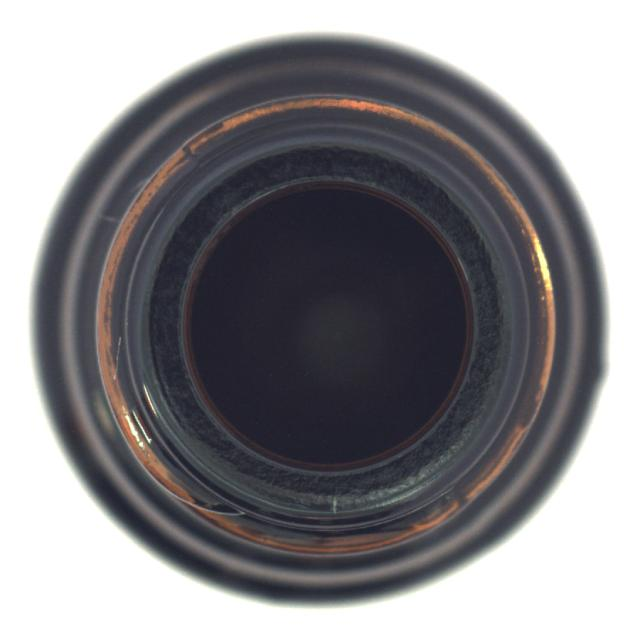bottle-good: (29, 33, 598, 604)
